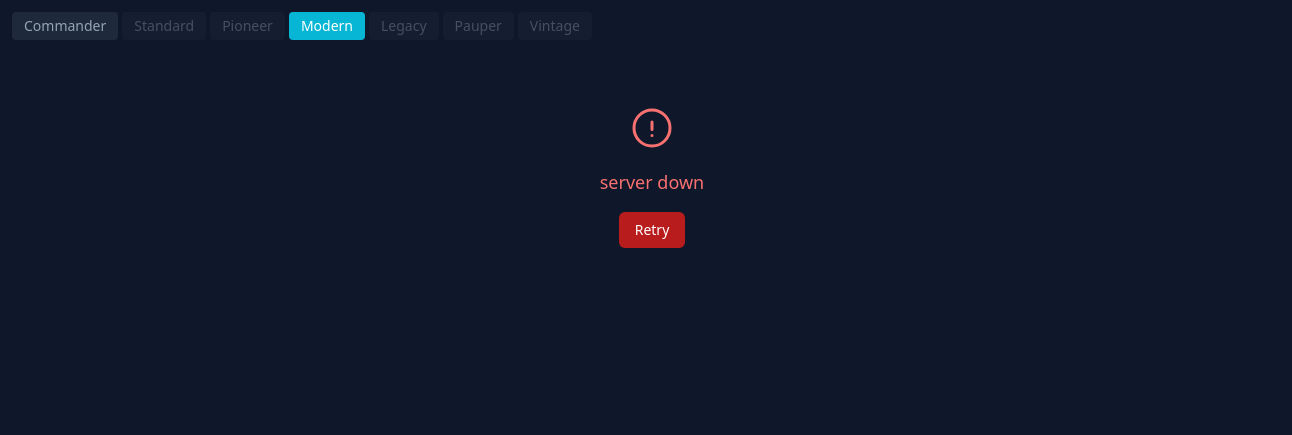
it: MetaDecksPanel › shows ErrorBanner on API errors and retry refetches
Check: the message with test id "error-banner" shows "server down", box [600,170,704,194]
Step 1. Click the button "Retry" → (652, 230), box [619,212,685,248]
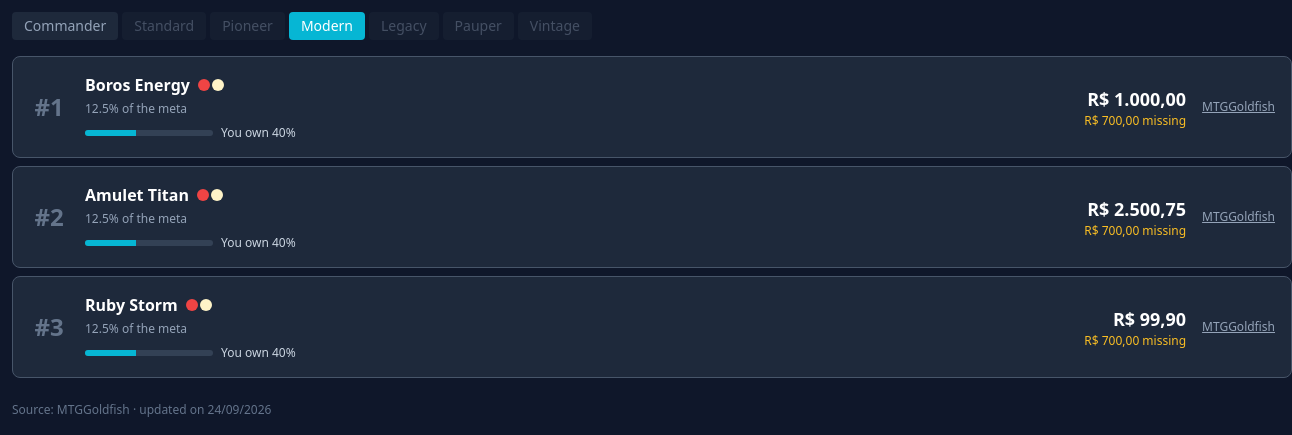
Check: the element with test id "meta-decks-list" is shown
Check: the message with test id "error-banner" is gone
